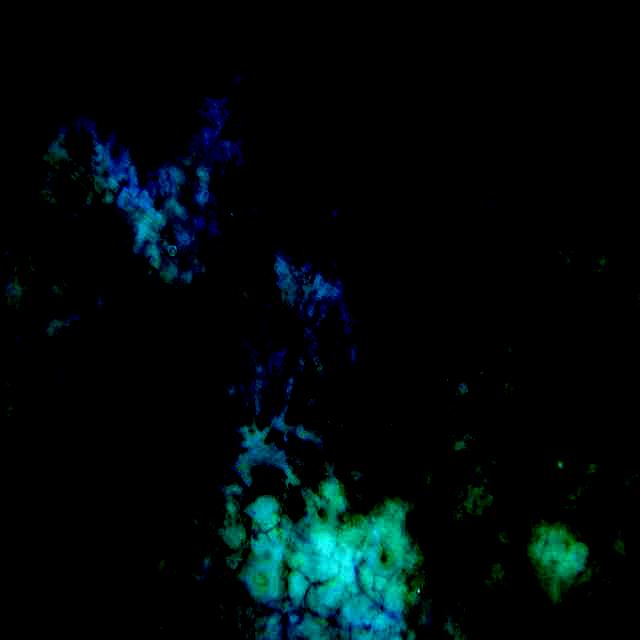BKL: (135, 122, 478, 518)
